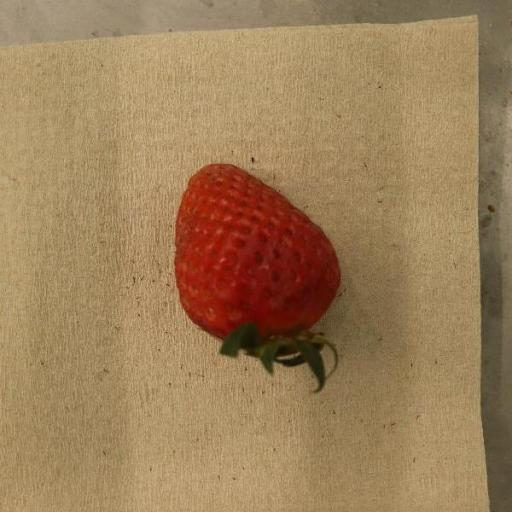Strawberry: (175, 164, 341, 393)
